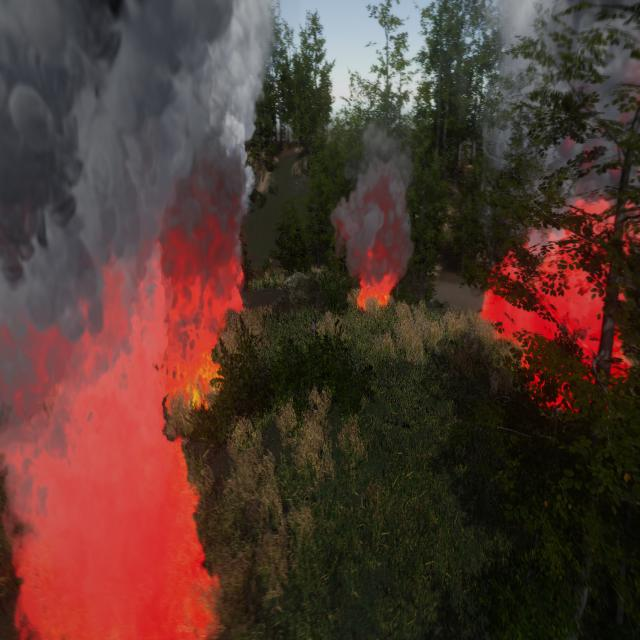Human: (304, 304, 322, 346)
